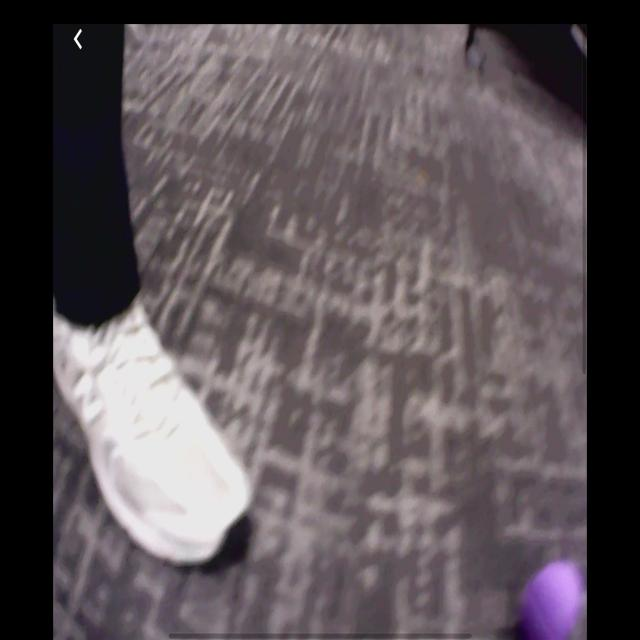ball: (521, 560, 582, 640)
